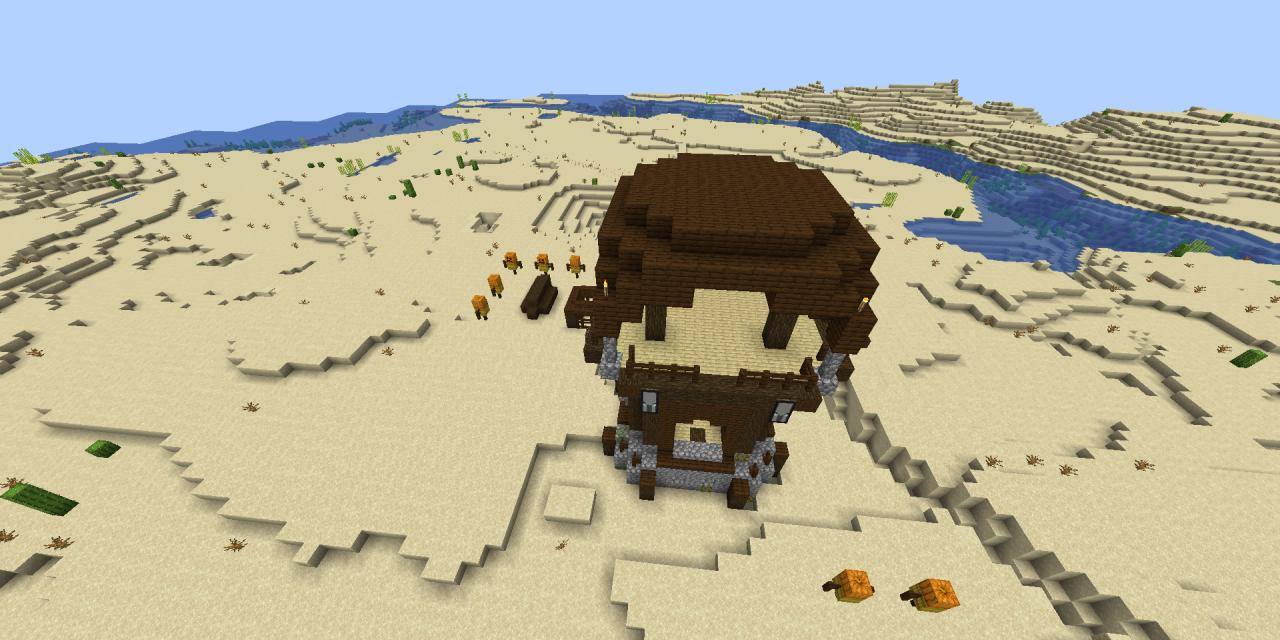pillager outpost: (566, 127, 904, 532)
